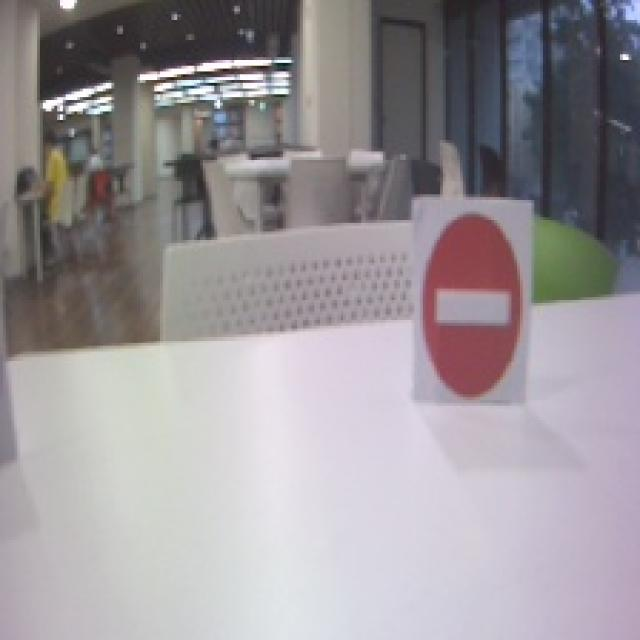DoNotEnterSign: (421, 214, 519, 402)
